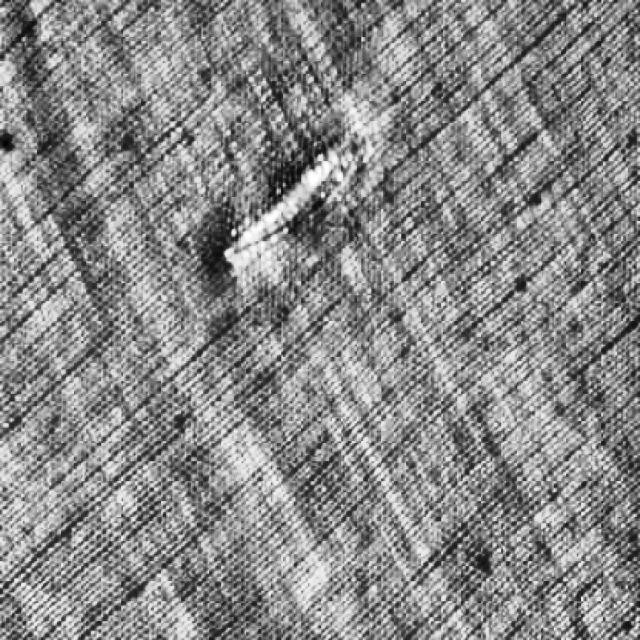hole: (187, 114, 376, 294)
